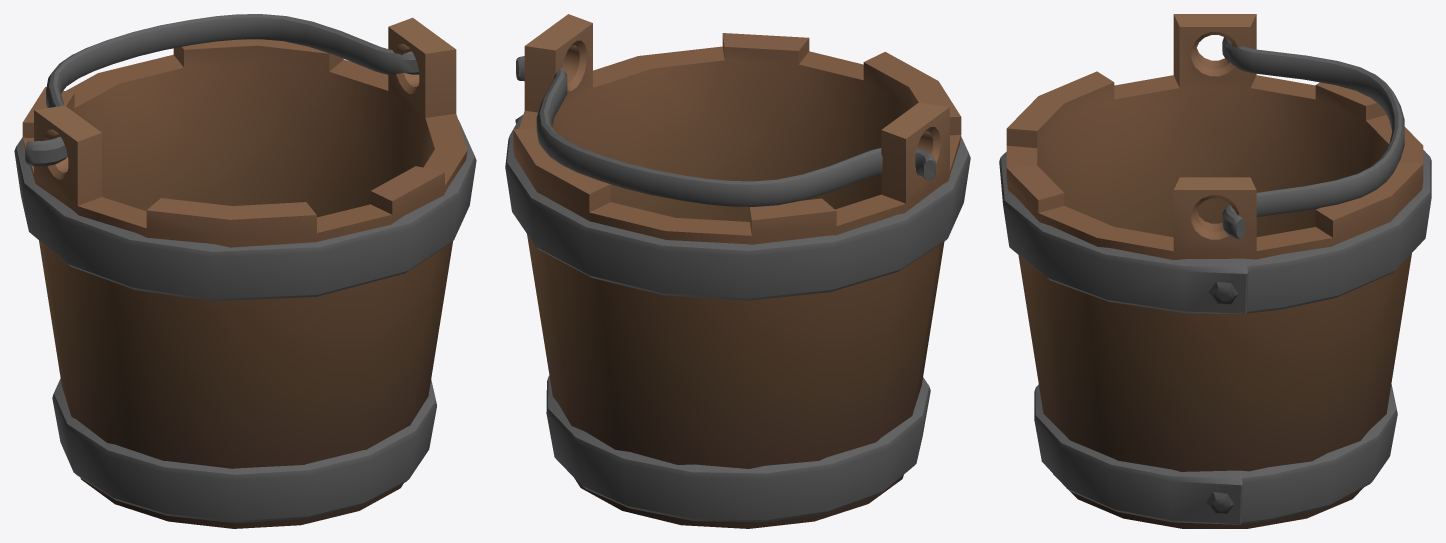
File: Bucket_1.fbx
3 renders of one model, left to right at view 1: azimuth 30°, elevation 25°; view 2: azimuth 150°, elevation 25°; view 3: azimuth 270°, elevation 25°, orthographic. The views are drawn at different scales.
Visible parts, largest first — view 1: Bucket_1; view 2: Bucket_1; view 3: Bucket_1.
Part boxes in pixels (<box>): Bucket_1: <box>14,14,476,528</box>; Bucket_1: <box>505,14,970,528</box>; Bucket_1: <box>999,14,1431,528</box>.
Size of the model in its own units: 52.41 by 45.2 by 49.45.
